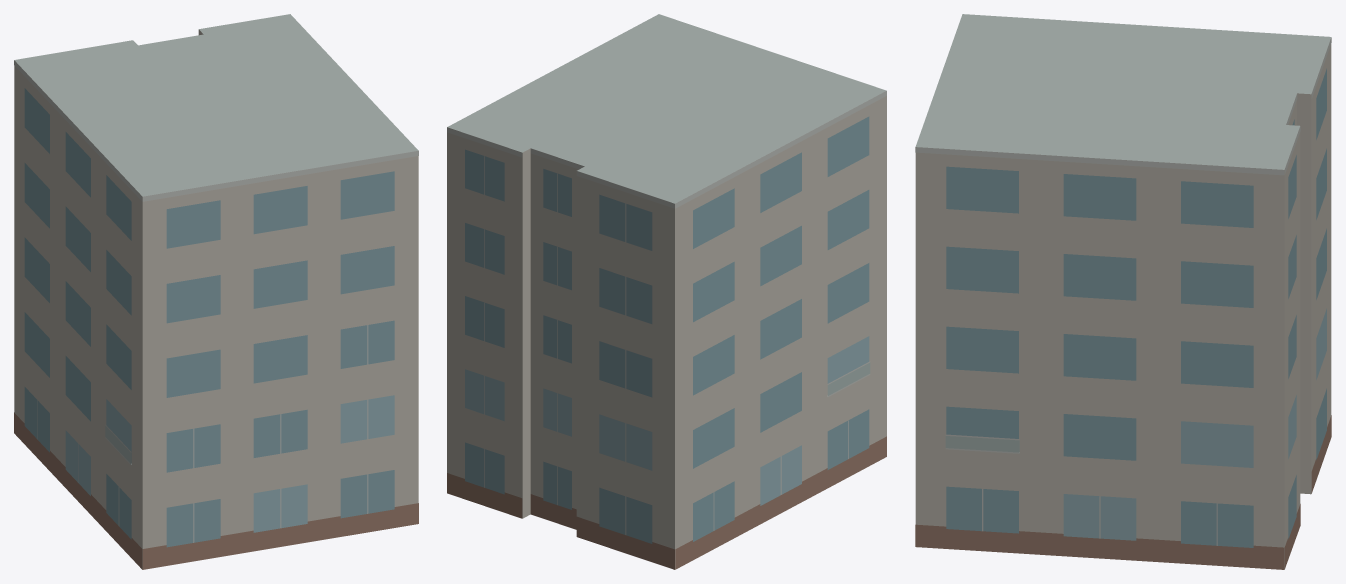
The model's file is survey-upis-32838291.glb.
The picture shows the model from 3 angles, left to right: view 1: azimuth 30°, elevation 25°; view 2: azimuth 150°, elevation 25°; view 3: azimuth 270°, elevation 25°; orthographic projection. The views are drawn at different scales.
Parts seen in each view (by area): view 1: survey-upis-32838291.tmp; view 2: survey-upis-32838291.tmp; view 3: survey-upis-32838291.tmp.
Part boxes in pixels (<box>): survey-upis-32838291.tmp: <box>14,14,418,569</box>; survey-upis-32838291.tmp: <box>447,14,886,569</box>; survey-upis-32838291.tmp: <box>915,14,1331,569</box>.
Size of the model in its own units: 14.72 by 17.6 by 16.6.
